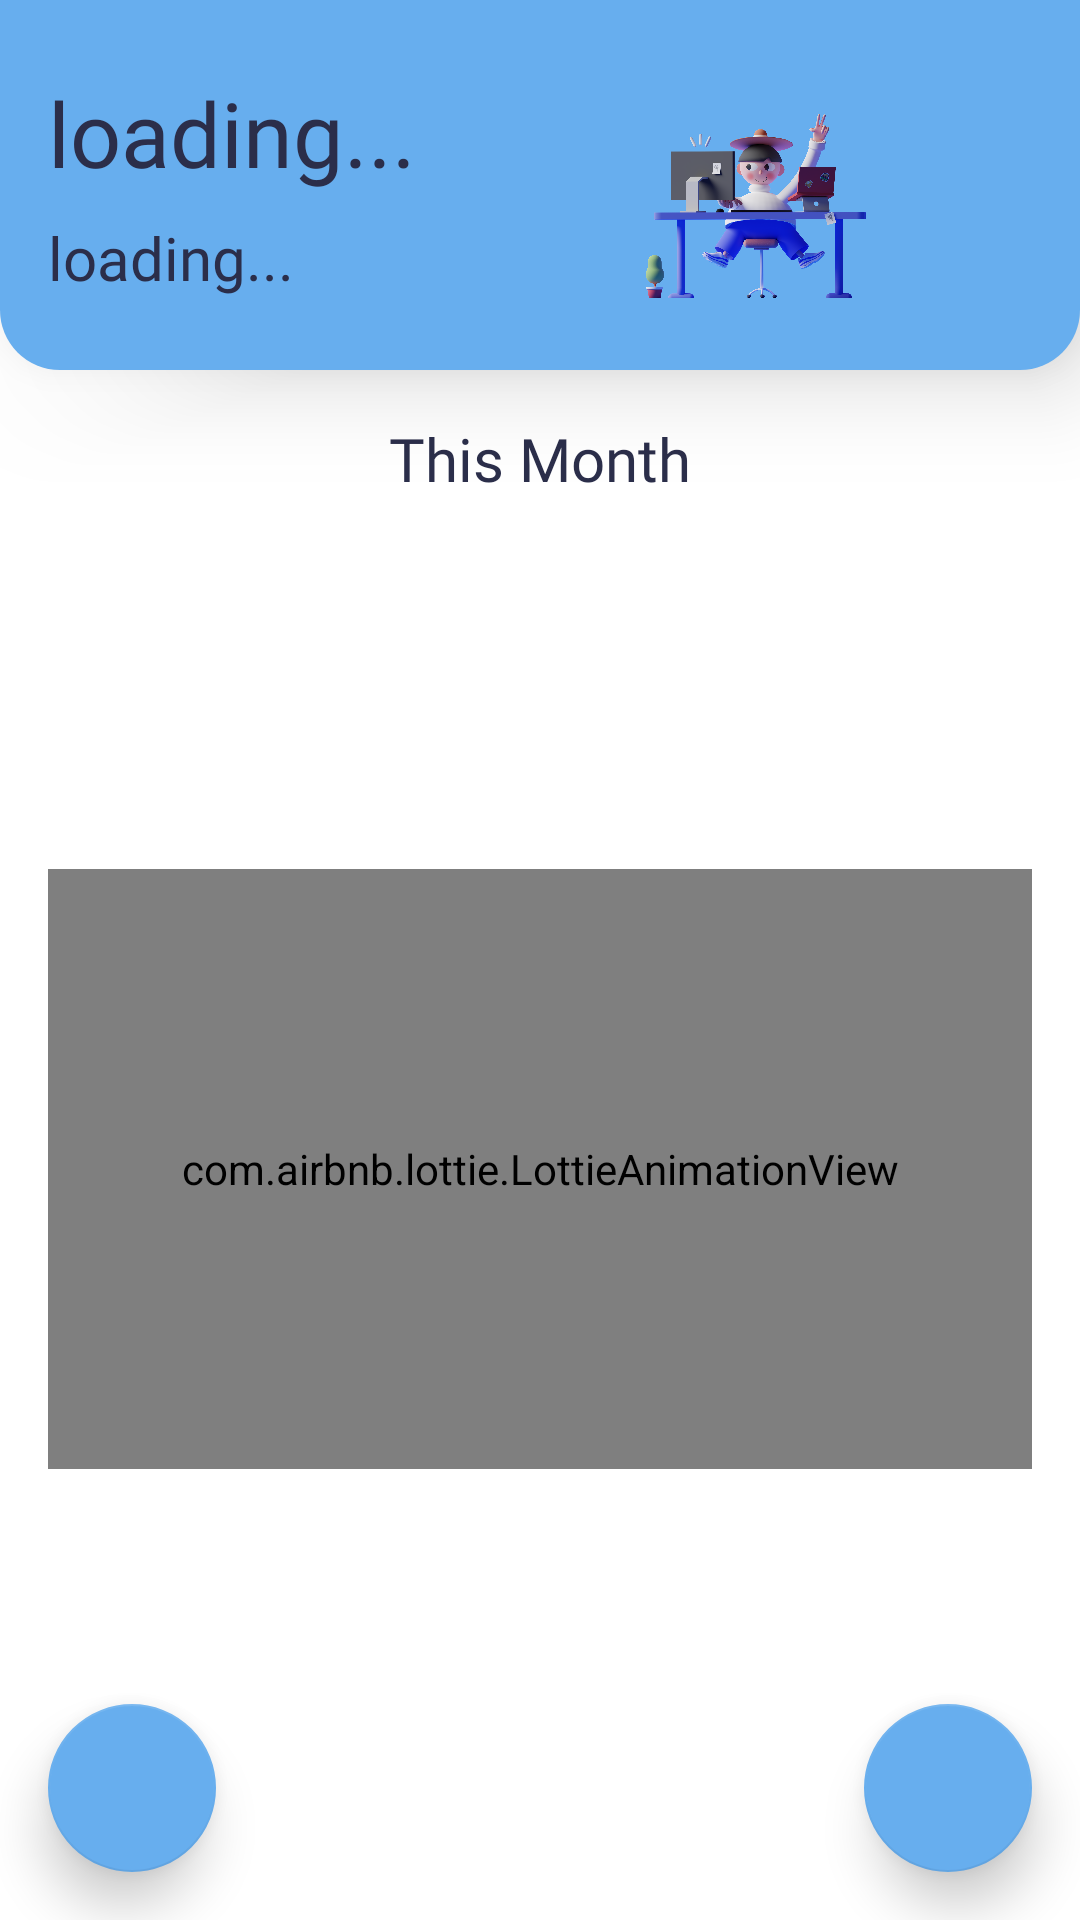

Locate icon controls on the screen. Image size 1080×1920, boxes as (x1, y1, x2, y2).
profile: (646, 114, 866, 298)
